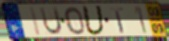1: (134, 5, 149, 35)
I: (29, 6, 43, 37)
O: (64, 7, 87, 36)
T: (109, 6, 126, 34)
U: (38, 5, 64, 37), (81, 5, 107, 37)
